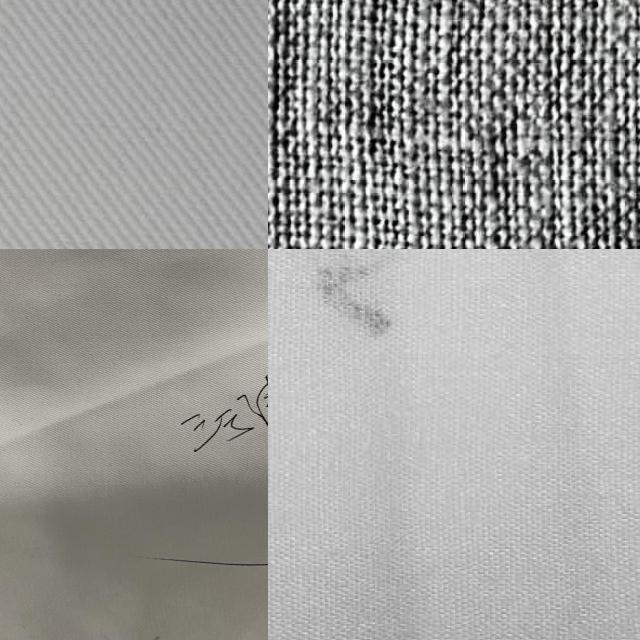Thread_other: (295, 249, 407, 357)
